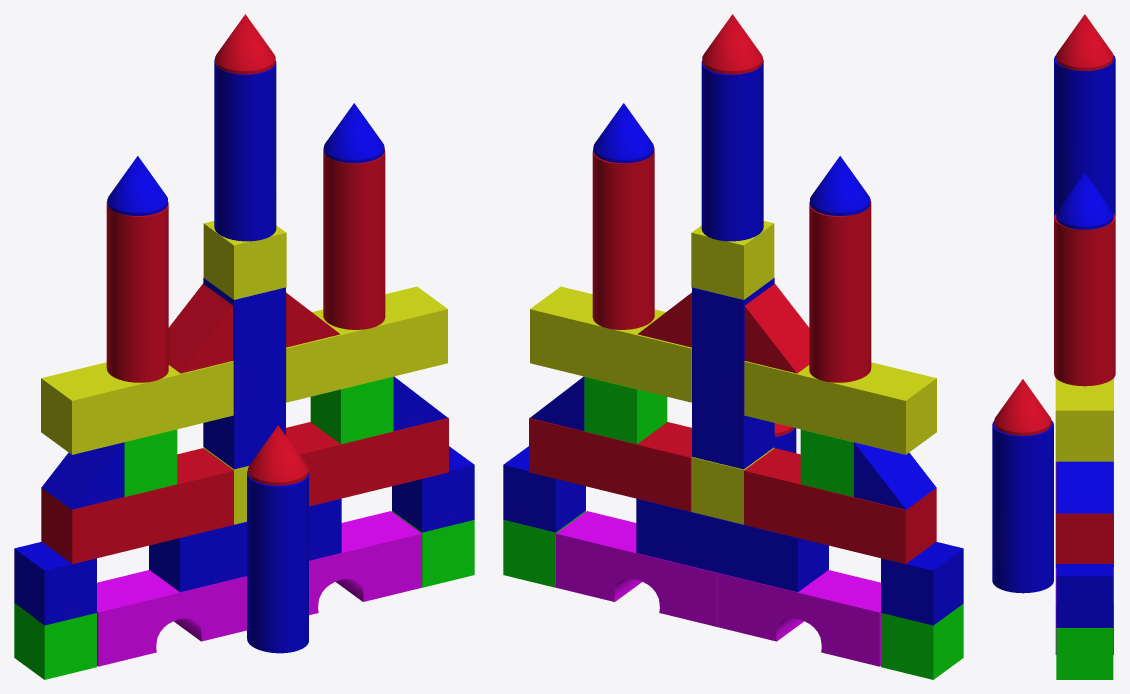
The model's file is Block Castle.fbx.
3 renders of one model, left to right at view 1: azimuth 30°, elevation 25°; view 2: azimuth 150°, elevation 25°; view 3: azimuth 270°, elevation 25°, orthographic. The views are drawn at different scales.
Parts seen in each view (by area): view 1: Blocks :D; view 2: Blocks :D; view 3: Blocks :D.
Boxes of the visible parts, x1,y1,x2,y2 form: Blocks :D: (14,14,474,679); Blocks :D: (503,14,963,679); Blocks :D: (992,14,1115,679).
Bounding box in the file's own units: 102 × 136 × 26.87.
Materials: 1 (1 with a texture image).
